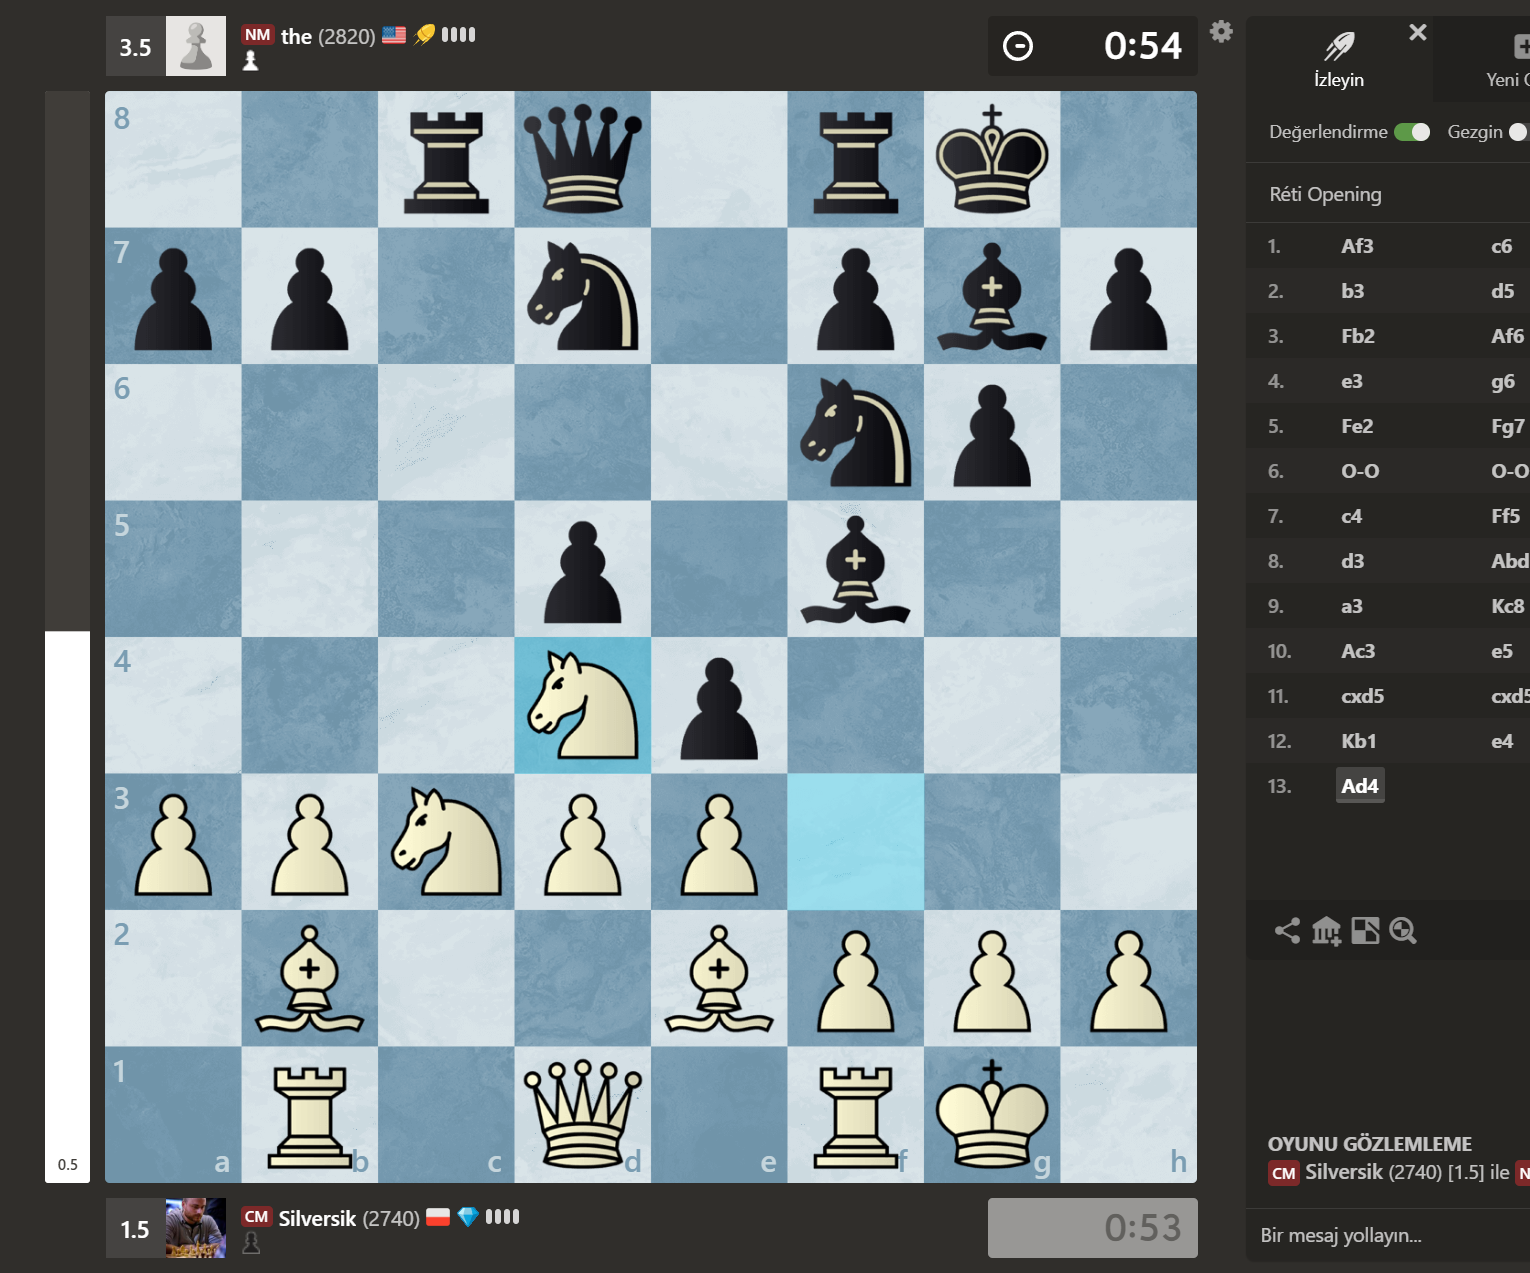beyaz_at: (386, 778, 510, 905), (524, 642, 646, 765)
beyaz_fil: (654, 908, 782, 1041), (252, 919, 379, 1037)
beyaz_kale: (252, 1048, 374, 1174), (797, 1049, 914, 1174)
beyaz_piyon: (931, 913, 1055, 1035), (658, 781, 782, 902), (1071, 913, 1187, 1041), (253, 781, 374, 899), (799, 919, 917, 1037), (527, 781, 644, 899), (117, 783, 224, 902)
beyaz_sah: (931, 1051, 1055, 1176)
beyaz_vezir: (518, 1049, 644, 1174)
siyah_at: (521, 232, 646, 361), (795, 370, 916, 494)
siyah_fil: (795, 504, 917, 633), (931, 229, 1051, 357)
siyah_kale: (384, 97, 510, 216), (795, 97, 914, 219)
siyah_piyon: (252, 232, 377, 360), (657, 640, 782, 764), (794, 236, 916, 360), (1067, 236, 1187, 360), (929, 375, 1051, 492), (524, 507, 642, 626), (116, 236, 226, 354)
siyah_sah: (931, 97, 1053, 219)
siyah_vezir: (518, 97, 644, 215)
